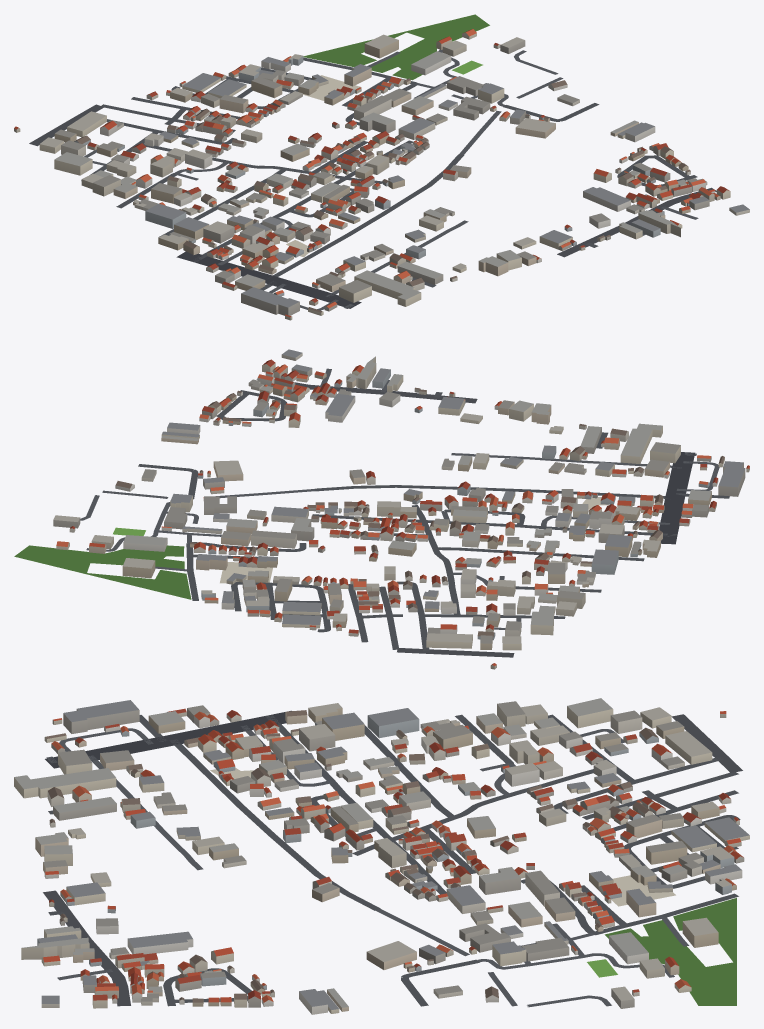
3 views of the same model, one above another, from view 1: azimuth 30°, elevation 25°; view 2: azimuth 150°, elevation 25°; view 3: azimuth 270°, elevation 25° (orthographic). The views are drawn at different scales.
Visible parts, largest first — view 1: buildings_walls, buildings_roofs, roads, landuse; view 2: buildings_roofs, buildings_walls, roads, landuse; view 3: buildings_roofs, buildings_walls, roads, landuse.
Part boxes in pixels (left/top/right/bottom): buildings_walls: left=14, top=32, right=749, bottom=320; buildings_roofs: left=14, top=29, right=749, bottom=317; roads: left=29, top=49, right=716, bottom=310; landuse: left=286, top=14, right=489, bottom=257; buildings_roofs: left=53, top=349, right=749, bottom=666; buildings_walls: left=53, top=353, right=749, bottom=669; roads: left=80, top=368, right=729, bottom=657; landuse: left=14, top=497, right=608, bottom=599; buildings_roofs: left=14, top=698, right=749, bottom=1009; buildings_walls: left=14, top=704, right=749, bottom=1014; roads: left=43, top=710, right=742, bottom=1007; landuse: left=210, top=767, right=736, bottom=1005.
Size of the model in its own units: 524 by 9.6 by 535.
